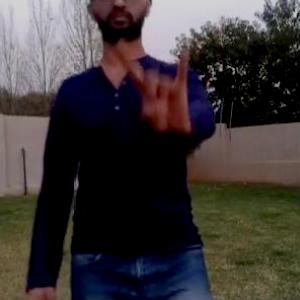takeoff-hand: (115, 31, 200, 139)
